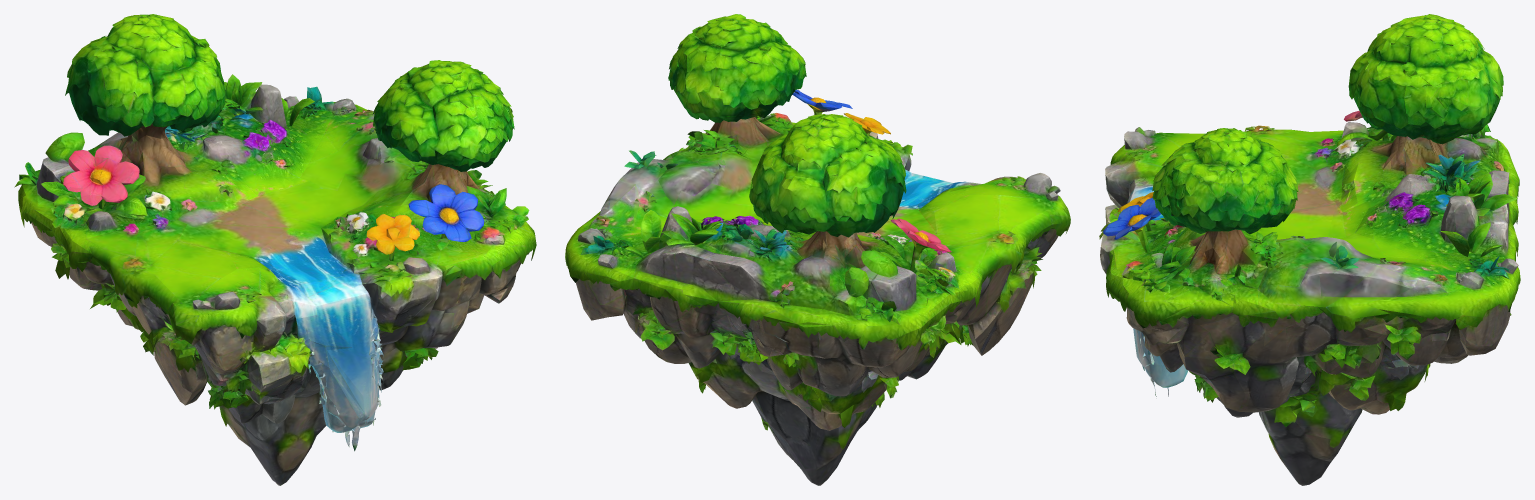
The model's file is island.glb.
3 views of the same model, side by side, from view 1: azimuth 30°, elevation 25°; view 2: azimuth 150°, elevation 25°; view 3: azimuth 270°, elevation 25° (orthographic). The views are drawn at different scales.
Size of the model in its own units: 1.68 by 1.9 by 1.67.
1 material, 1 textured.
